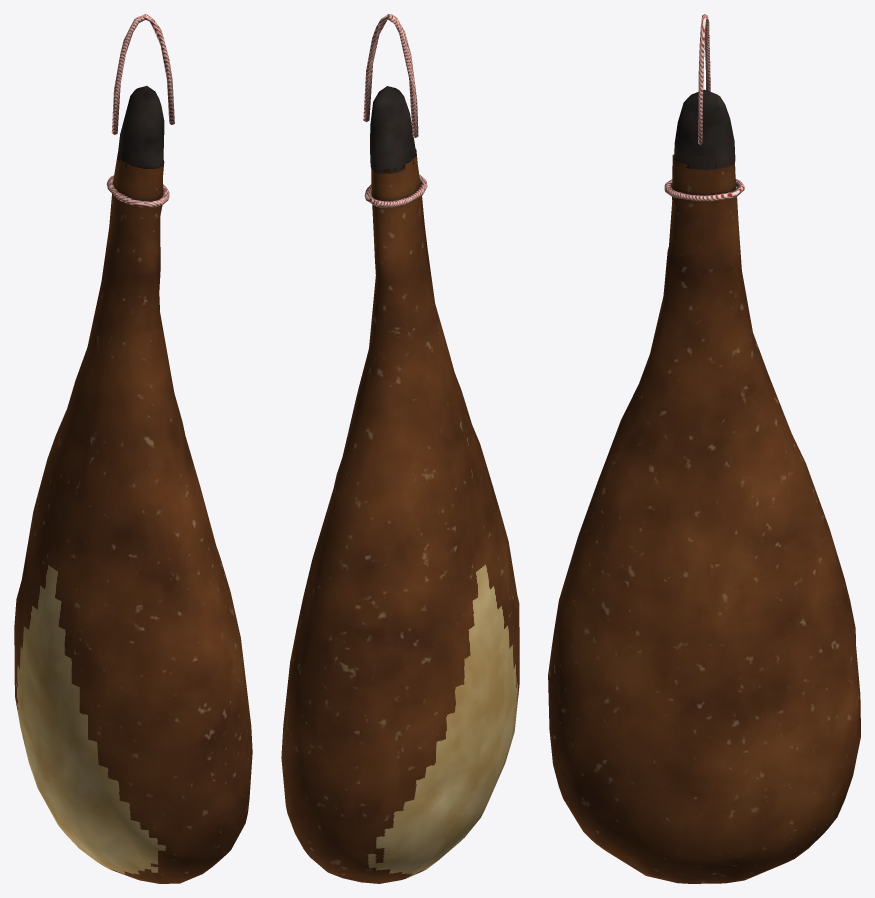
Rendered from jamon_colgado.glb.
3 views of the same model, side by side, from view 1: azimuth 30°, elevation 25°; view 2: azimuth 150°, elevation 25°; view 3: azimuth 270°, elevation 25° (orthographic).
Visible parts, largest first — view 1: jamon_colgado; view 2: jamon_colgado; view 3: jamon_colgado.
Part boxes in pixels (left/top/right/bottom): jamon_colgado: left=14, top=14, right=252, bottom=883; jamon_colgado: left=281, top=14, right=519, bottom=883; jamon_colgado: left=548, top=14, right=860, bottom=883.
Size of the model in its own units: 0.2058 by 0.9222 by 0.3035.
Materials: 1 (1 with a texture image).
